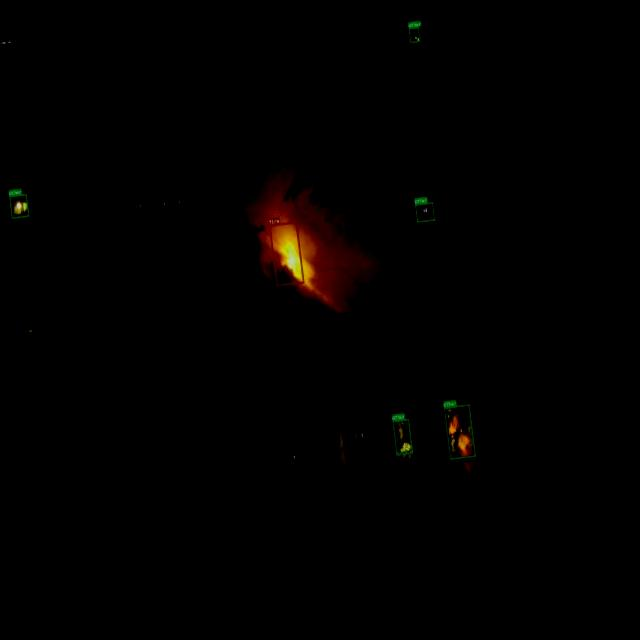fire: (268, 220, 304, 286)
